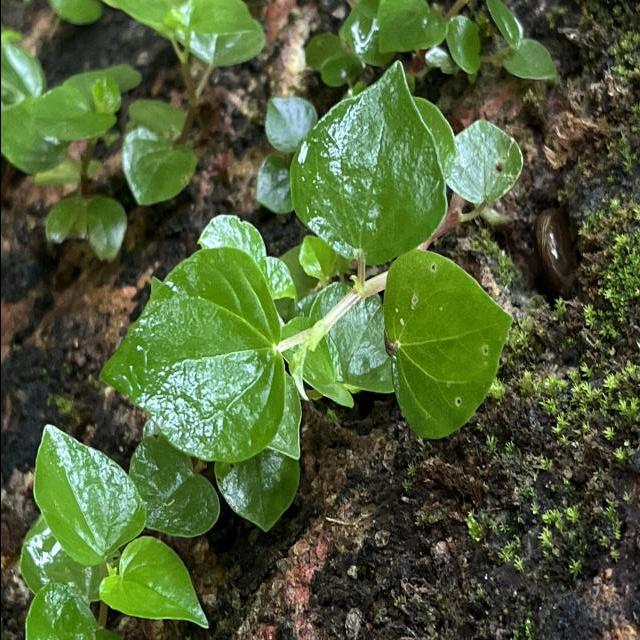Peperomia pellucida: (96, 245, 284, 466), (287, 57, 448, 266), (382, 248, 514, 441)
